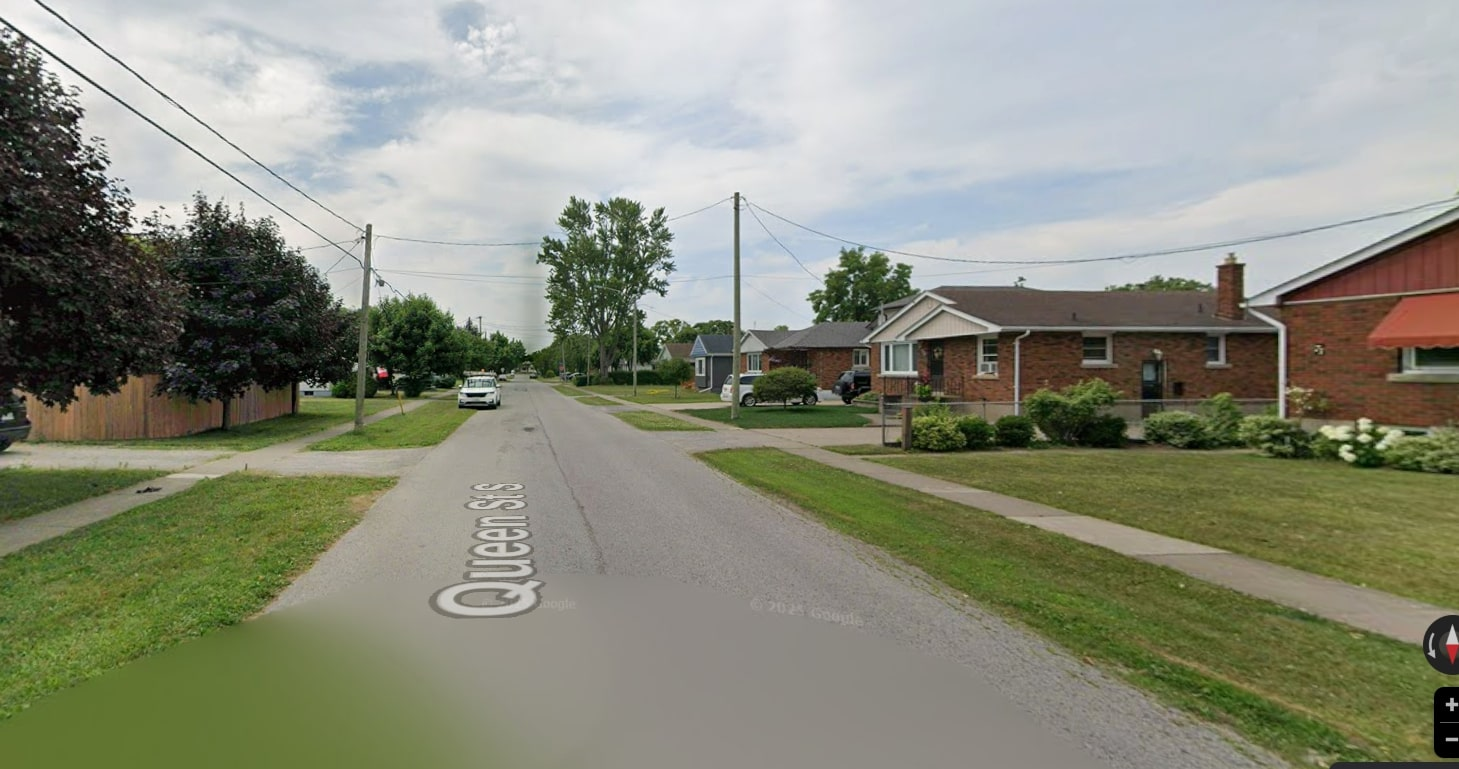cracks: (523, 422, 612, 582)
